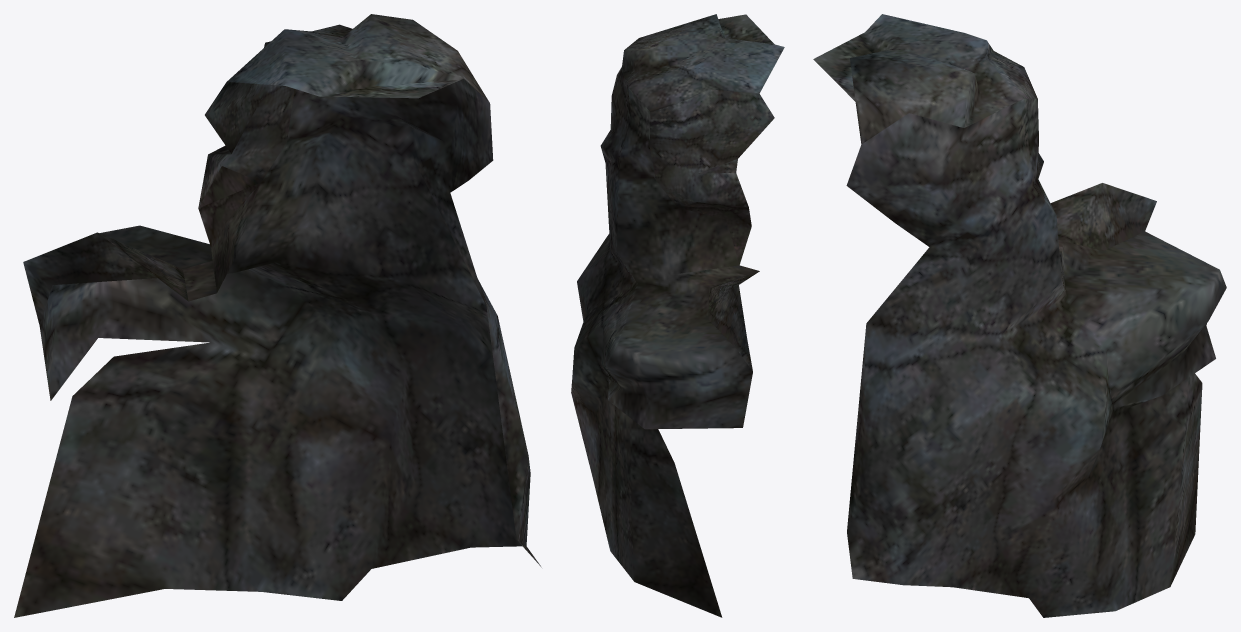
File: S_Rock_Yellow034_H24.FBX
3 views of the same model, side by side, from view 1: azimuth 30°, elevation 25°; view 2: azimuth 150°, elevation 25°; view 3: azimuth 270°, elevation 25° (orthographic). The views are drawn at different scales.
Visible parts, largest first — view 1: S_Rock_Yellow034_H24; view 2: S_Rock_Yellow034_H24; view 3: S_Rock_Yellow034_H24.
Part boxes in pixels (box(x1,y1,x2,y2)): S_Rock_Yellow034_H24: box(14, 14, 541, 617); S_Rock_Yellow034_H24: box(571, 14, 784, 617); S_Rock_Yellow034_H24: box(813, 14, 1226, 617).
Size of the model in its own units: 1001 by 1145 by 1721.
1 material, 1 textured.
